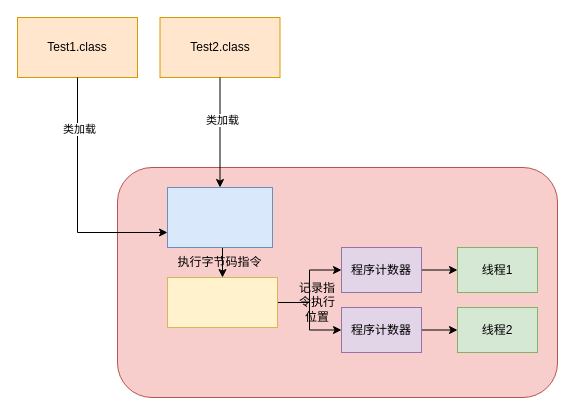
Some shapes in this 575 by 415 pixel diagram are drawn without their labels. Each missing label, with the box of its shape:
JVM: (116, 166, 558, 398)
字节码执行引擎: (166, 276, 278, 328)
方法区 Test1.class Test2.class: (166, 186, 272, 248)
